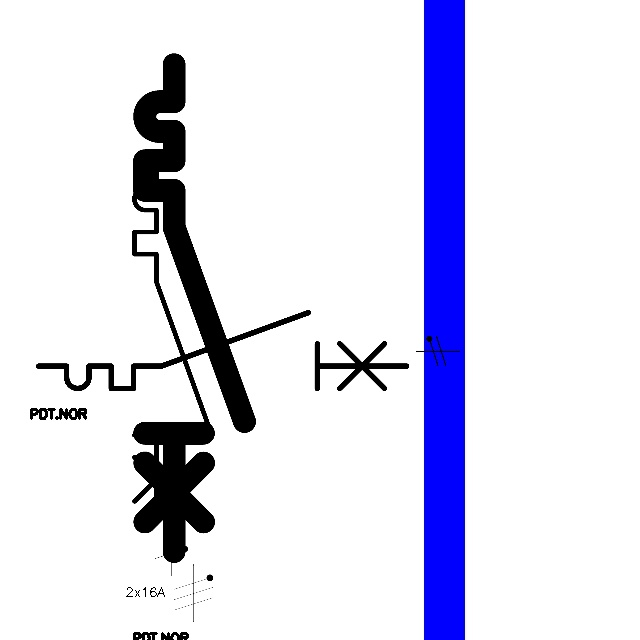interruptor_termomagnetico: (132, 52, 257, 564), (29, 303, 416, 398), (125, 151, 218, 533)
